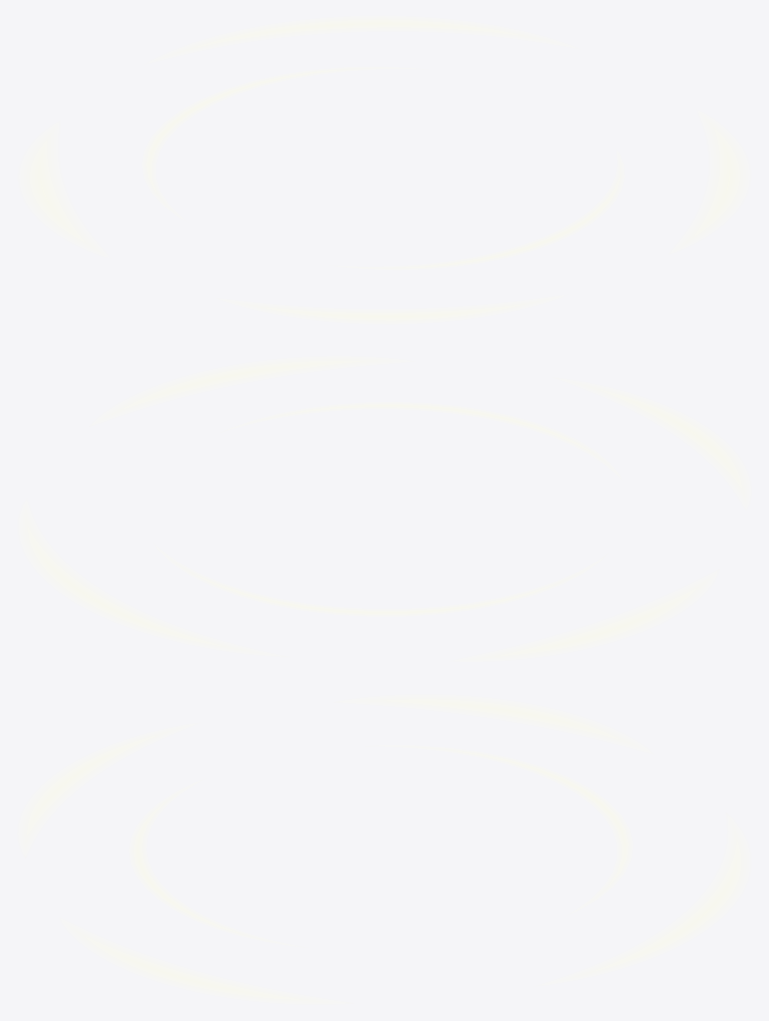
Rendered from break_ring.glb.
The picture shows the model from 3 angles, top to bottom: view 1: azimuth 30°, elevation 25°; view 2: azimuth 150°, elevation 25°; view 3: azimuth 270°, elevation 25°; orthographic projection. The views are drawn at different scales.
Visible parts, largest first — view 1: Broken_air_arc_3, Broken_air_arc_2, Broken_air_arc_0, Broken_air_arc_1, Broken_air_arc_5, Broken_air_arc_4; view 2: Broken_air_arc_3, Broken_air_arc_2, Broken_air_arc_0, Broken_air_arc_1, Broken_air_arc_5, Broken_air_arc_4; view 3: Broken_air_arc_3, Broken_air_arc_2, Broken_air_arc_0, Broken_air_arc_1, Broken_air_arc_5, Broken_air_arc_4.
Part boxes in pixels (x1,y1,x2,y2): Broken_air_arc_3: [198, 20, 517, 46]; Broken_air_arc_2: [30, 141, 83, 241]; Broken_air_arc_0: [695, 130, 739, 235]; Broken_air_arc_1: [267, 305, 519, 320]; Broken_air_arc_5: [146, 70, 336, 191]; Broken_air_arc_4: [406, 178, 619, 267]; Broken_air_arc_3: [28, 528, 220, 645]; Broken_air_arc_2: [501, 589, 695, 655]; Broken_air_arc_0: [124, 361, 359, 408]; Broken_air_arc_1: [601, 390, 741, 487]; Broken_air_arc_5: [196, 575, 552, 614]; Broken_air_arc_4: [286, 404, 590, 451]; Broken_air_arc_3: [596, 842, 740, 970]; Broken_air_arc_2: [387, 699, 617, 738]; Broken_air_arc_0: [86, 937, 298, 999]; Broken_air_arc_1: [27, 736, 154, 834]; Broken_air_arc_5: [458, 751, 628, 885]; Broken_air_arc_4: [134, 803, 237, 932].
Size of the model in its own units: 0.7886 by 0.005 by 0.7902.
